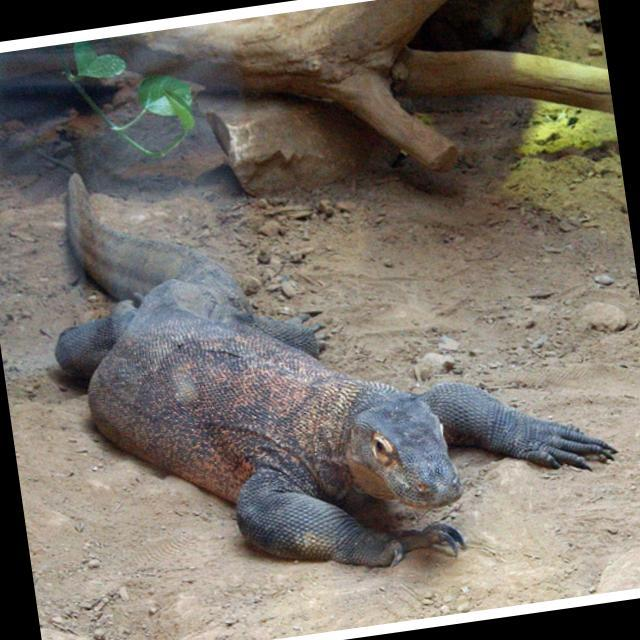KomodoDragon: (28, 98, 634, 609)
